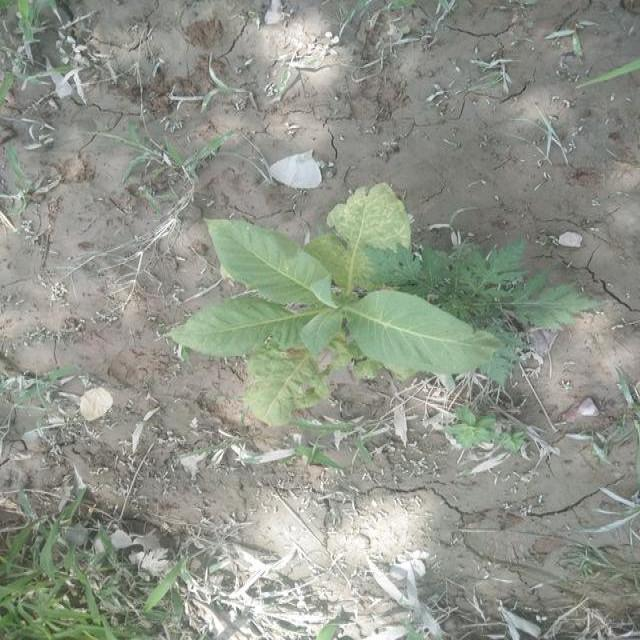crop: (176, 188, 534, 427)
